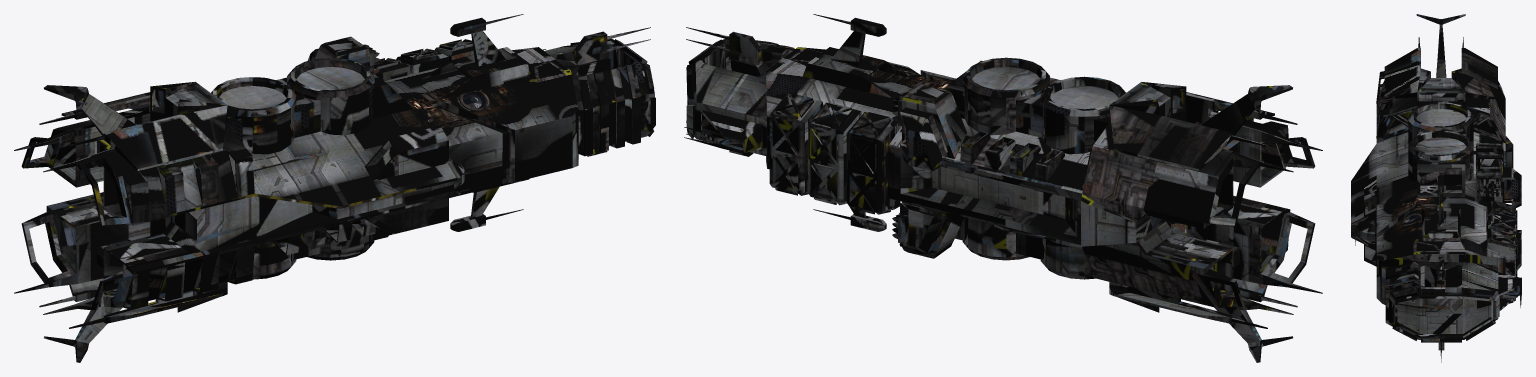
File: anna-v.obj
The picture shows the model from 3 angles, left to right: view 1: azimuth 30°, elevation 25°; view 2: azimuth 150°, elevation 25°; view 3: azimuth 270°, elevation 25°; orthographic projection. The views are drawn at different scales.
Visible parts, largest first — view 1: ship_hull; view 2: ship_hull; view 3: ship_hull.
Part boxes in pixels (left/top/right/bottom): ship_hull: left=14, top=14, right=655, bottom=362; ship_hull: left=684, top=14, right=1322, bottom=362; ship_hull: left=1351, top=14, right=1521, bottom=362.
Size of the model in its own units: 132 by 53.16 by 42.08.
